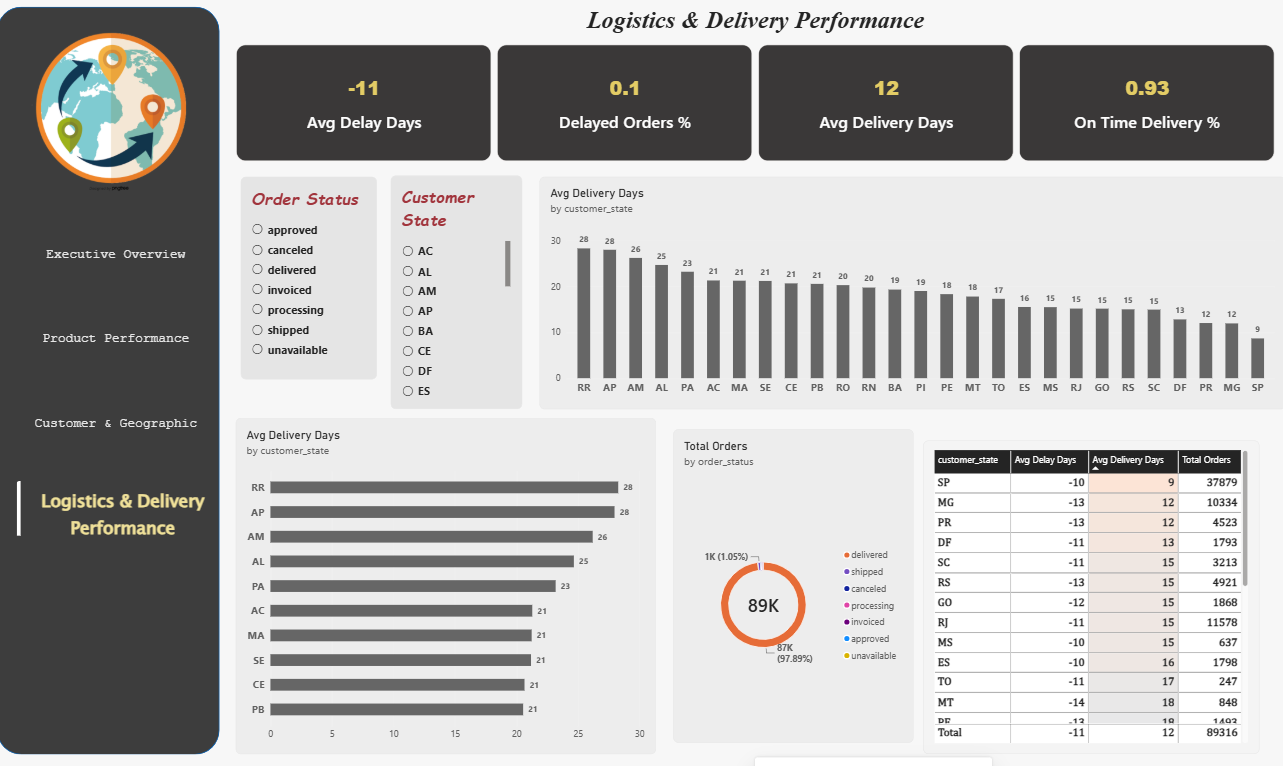

Layout of this report page (visuals, bound fields, positions):
{"tool":"powerbi","page":{"name":"Logistics & Delivery Performance","canvas":[2000,1200],"ordinal":3},"visuals":[{"type":"textbox","box":[345.2,18.5,1654.3,69.5],"z":0},{"type":"shape","box":[0,20.6,345.2,1160.4],"z":1},{"type":"image","box":[22.5,43.2,300.7,271.7],"z":2},{"type":"cardVisual","fields":{"Data":["df_OrderItems.Avg Delay Days","df_Customers.Delayed Orders %","df_Orders.Avg Delivery Days","df_Customers.On Time Delivery %"]},"box":[370.9,79.3,1614.5,182.2],"z":3},{"type":"columnChart","title":"Avg Delivery Days BY States","fields":{"Category":["df_Customers.customer_state"],"Y":["df_Orders.Avg Delivery Days"]},"box":[841.7,285.1,1157.9,360.7],"z":4},{"type":"barChart","title":"Average of delay days By States","fields":{"Category":["df_Customers.customer_state"],"Y":["Avg(df_Orders.delay days)"]},"box":[370.4,659.4,651.7,521.7],"z":6},{"type":"donutChart","title":"Orders Status","fields":{"Category":["df_Orders.order_status"],"Y":["df_Customers.Total Orders"]},"box":[1049.3,676.9,373,486.6],"z":7},{"type":"tableEx","fields":{"Values":["df_Customers.customer_state","df_OrderItems.Avg Delay Days","df_Orders.Avg Delivery Days","df_Customers.Total Orders"]},"box":[1437.2,676.9,546.9,504.3],"z":8},{"type":"listSlicer","title":"Customer State","fields":{"Values":["df_Customers.customer_state"]},"box":[610.9,283.2,203.6,362.7],"z":10},{"type":"listSlicer","title":"Order Status","fields":{"Values":["df_Orders.order_status"]},"box":[378.2,285.1,211.4,314.2],"z":11},{"type":"pageNavigator","box":[11.6,345.2,345.2,583.8],"z":12}]}

Visuals, with their boxes in screenshot pixels (x1, y1, x2, y2), scaled from the page's 2000x1200 canvas onto the 1283x766 screenshot:
textbox: locate(221, 12, 1282, 56)
shape: locate(0, 13, 221, 754)
image: locate(14, 28, 207, 201)
cardVisual - df_OrderItems.Avg Delay Days x df_Customers.Delayed Orders %: locate(238, 51, 1274, 167)
"Avg Delivery Days BY States" columnChart: locate(540, 182, 1282, 412)
"Average of delay days By States" barChart: locate(238, 421, 656, 754)
"Orders Status" donutChart: locate(673, 432, 912, 743)
tableEx - df_Customers.customer_state x df_OrderItems.Avg Delay Days: locate(922, 432, 1273, 754)
"Customer State" listSlicer: locate(392, 181, 523, 412)
"Order Status" listSlicer: locate(243, 182, 378, 383)
pageNavigator: locate(7, 220, 229, 593)
